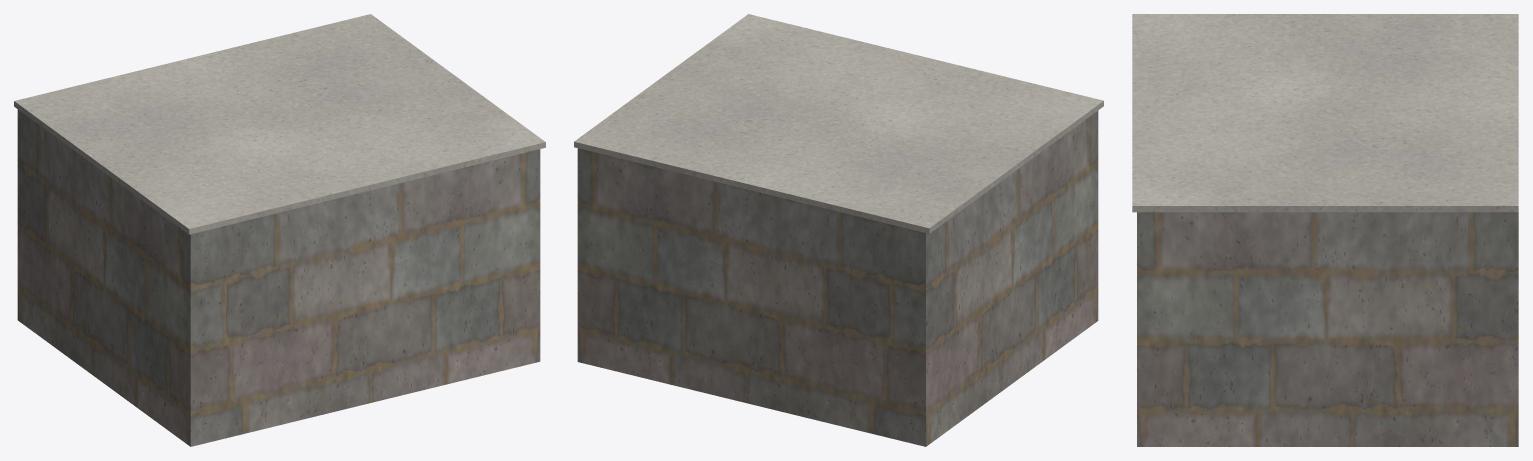
File: floor_vault_e0_0_30_0.glb
The picture shows the model from 3 angles, left to right: view 1: azimuth 30°, elevation 25°; view 2: azimuth 150°, elevation 25°; view 3: azimuth 270°, elevation 25°; orthographic projection. The views are drawn at different scales.
Parts seen in each view (by area): view 1: floor_vault_e0_0_30_0_granite, floor_vault_e0_0_30_0_concrete; view 2: floor_vault_e0_0_30_0_granite, floor_vault_e0_0_30_0_concrete; view 3: floor_vault_e0_0_30_0_granite, floor_vault_e0_0_30_0_concrete.
Boxes of the visible parts, left/top/right/bottom form: floor_vault_e0_0_30_0_granite: left=17, top=109, right=540, bottom=446; floor_vault_e0_0_30_0_concrete: left=14, top=14, right=545, bottom=234; floor_vault_e0_0_30_0_granite: left=577, top=111, right=1098, bottom=446; floor_vault_e0_0_30_0_concrete: left=574, top=14, right=1103, bottom=233; floor_vault_e0_0_30_0_granite: left=1137, top=212, right=1518, bottom=446; floor_vault_e0_0_30_0_concrete: left=1132, top=14, right=1518, bottom=212.
Size of the model in its own units: 2 by 1.18 by 1.7.
2 materials, 2 textured.
